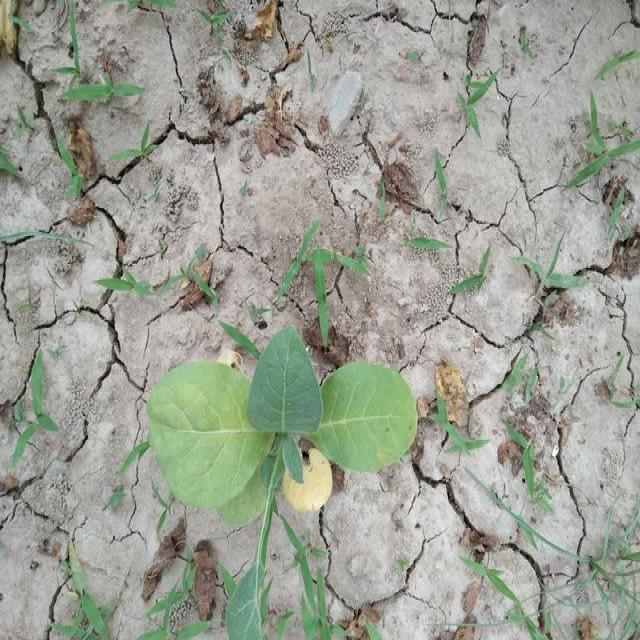crop: (146, 317, 428, 523)
